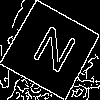N: (25, 24, 80, 82)
